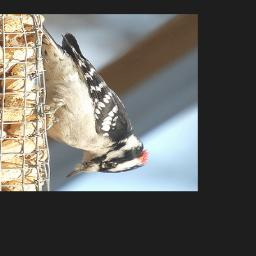Woodpecker: (34, 27, 149, 177)
